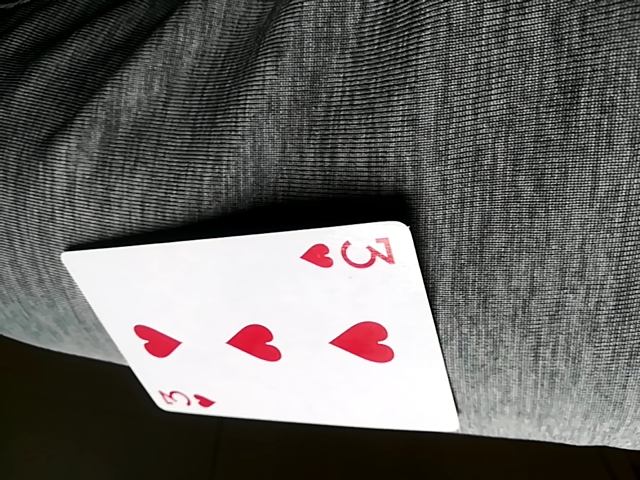hx 3: (57, 222, 458, 429)
